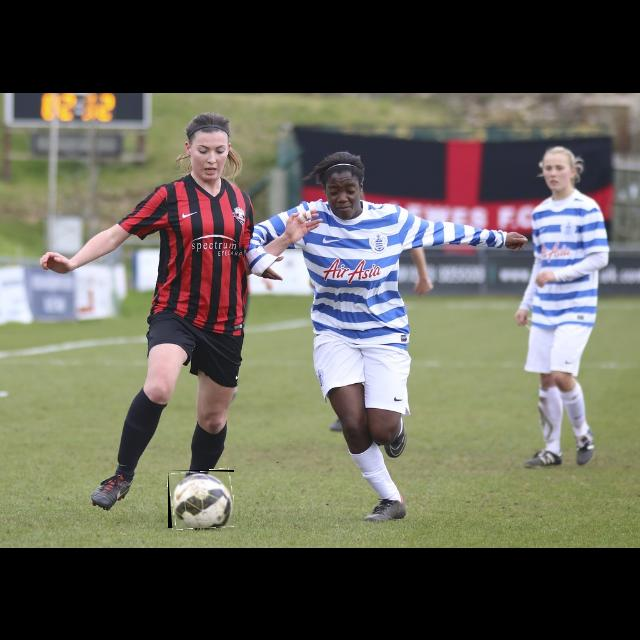Football: (168, 470, 234, 528)
